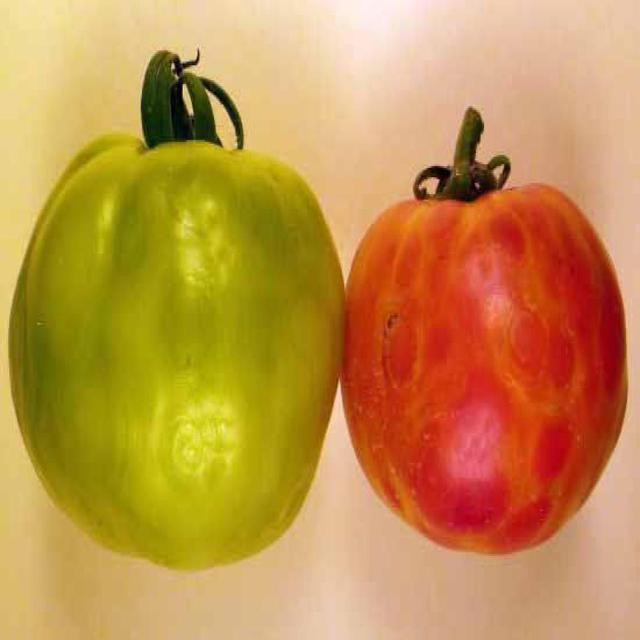Spotted wilt Virus Fruit: (8, 142, 254, 213)
